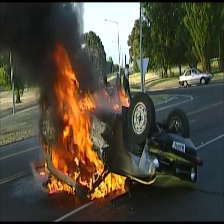fire_h: (54, 43, 107, 189), (89, 172, 127, 200), (48, 176, 76, 196), (51, 146, 69, 175)
fire_l: (112, 88, 129, 110), (40, 162, 49, 176), (102, 88, 108, 99), (43, 144, 49, 153)
